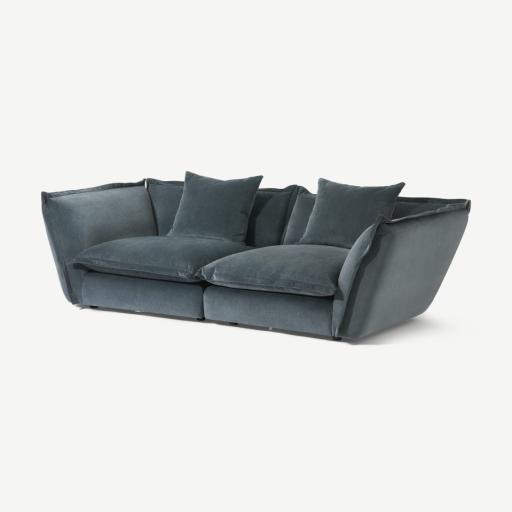back_cushion: (148, 172, 419, 249)
base: (80, 271, 333, 335)
left_arm: (333, 208, 468, 338)
right_arm: (42, 180, 156, 303)
seat_cushion: (72, 235, 348, 296)
two-seater: (0, 0, 511, 512)
